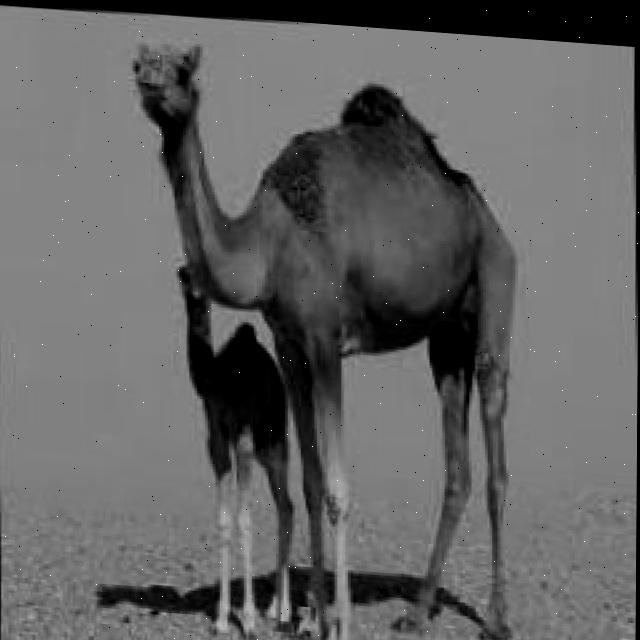Camel: (123, 36, 520, 640)
